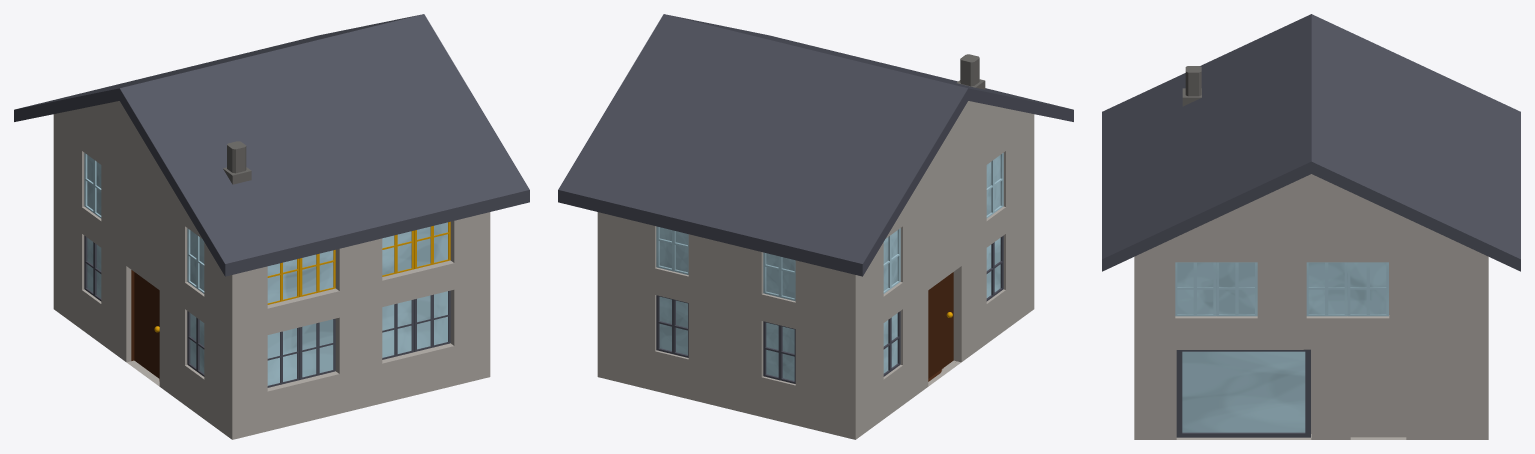
File: TPCS_House_002_V1.fbx
3 renders of one model, left to right at view 1: azimuth 30°, elevation 25°; view 2: azimuth 150°, elevation 25°; view 3: azimuth 270°, elevation 25°, orthographic.
Parts seen in each view (by area): view 1: Cube.041; view 2: Cube.041; view 3: Cube.041.
Part boxes in pixels (box(x1,y1,x2,y2)): Cube.041: box(14, 14, 529, 439); Cube.041: box(558, 14, 1073, 439); Cube.041: box(1102, 14, 1520, 439).
Size of the model in its own units: 591 by 541 by 709.
